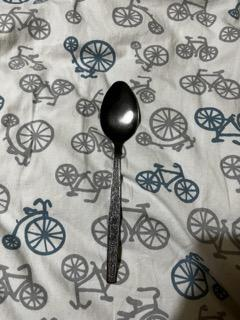spoon: (98, 80, 142, 286)
